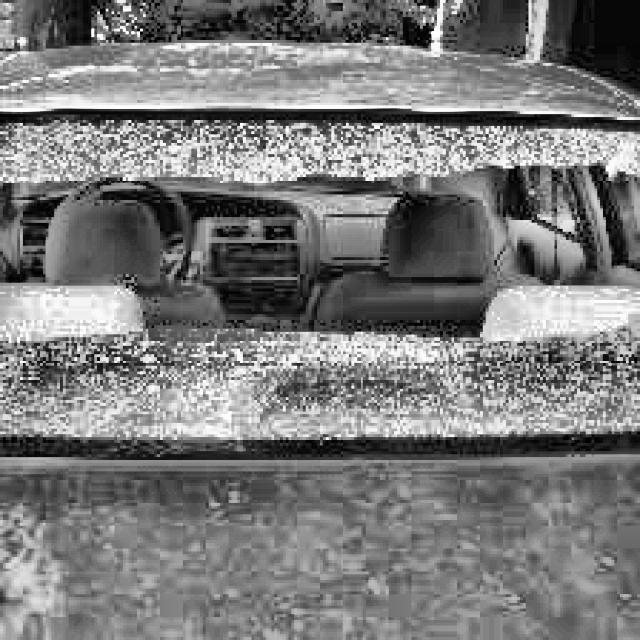glass_shatter: (0, 165, 640, 348)
